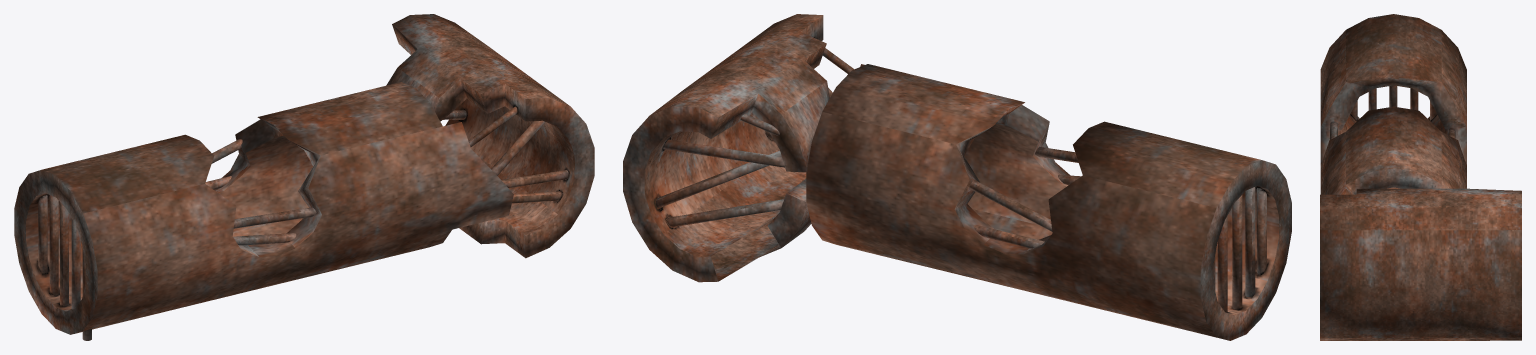
File: tuberia_2.obj
The picture shows the model from 3 angles, left to right: view 1: azimuth 30°, elevation 25°; view 2: azimuth 150°, elevation 25°; view 3: azimuth 270°, elevation 25°; orthographic projection. The views are drawn at different scales.
Parts seen in each view (by area): view 1: Tuberia2; view 2: Tuberia2; view 3: Tuberia2.
Boxes of the visible parts, x1,y1,x2,y2 form: Tuberia2: [14, 14, 594, 340]; Tuberia2: [623, 14, 1291, 340]; Tuberia2: [1320, 14, 1521, 340].
Bounding box in the file's own units: 83.04 × 25.48 × 33.24.
1 material, 1 textured.
